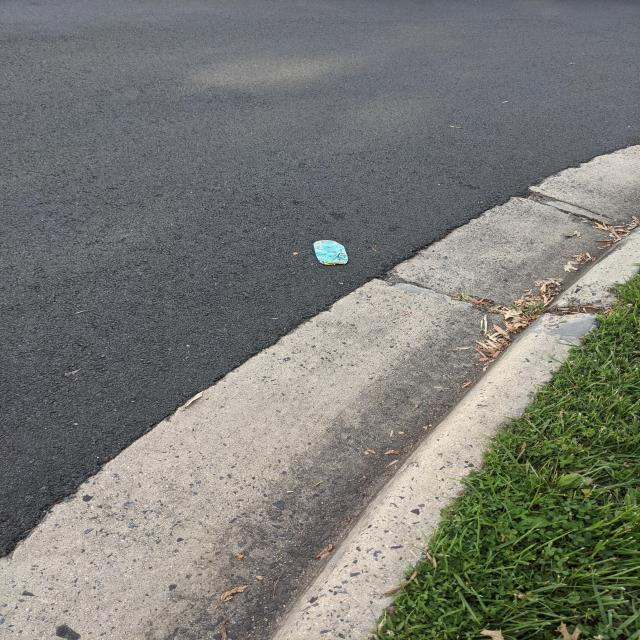litter: (311, 240, 349, 264)
